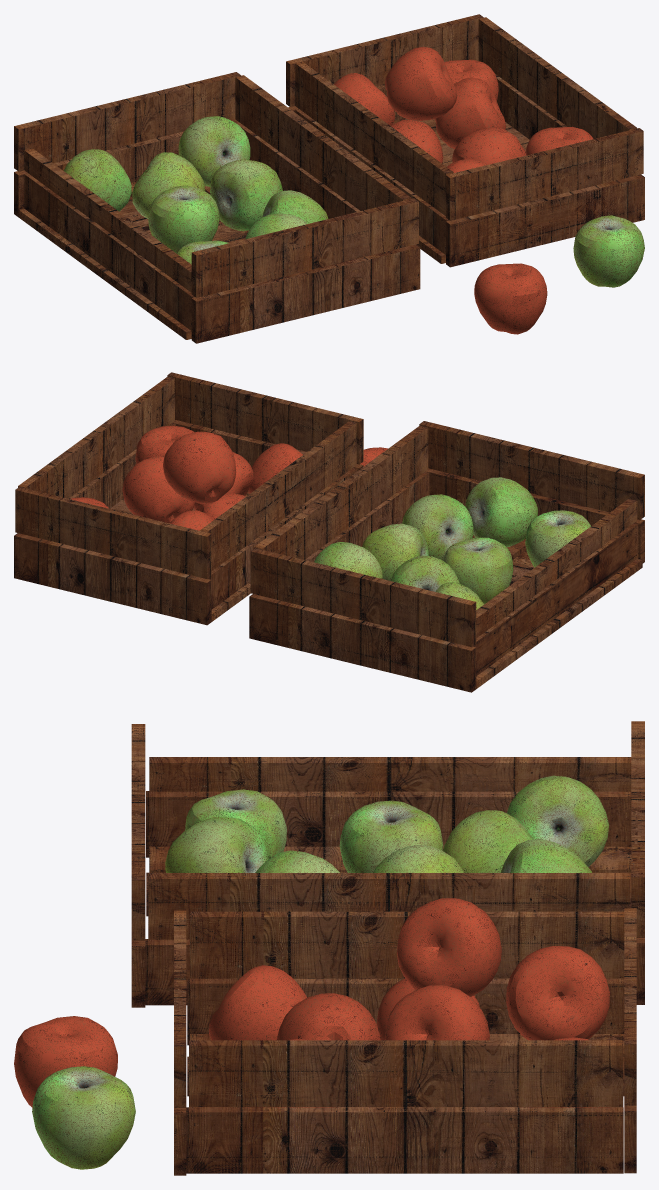
File: Apples.fbx
The picture shows the model from 3 angles, top to bottom: view 1: azimuth 30°, elevation 25°; view 2: azimuth 150°, elevation 25°; view 3: azimuth 270°, elevation 25°; orthographic projection. The views are drawn at different scales.
Visible parts, largest first — view 1: Group1, Group2, Group3, Group4; view 2: Group1, Group2; view 3: Group2, Group1, Group4, Group3.
Boxes of the visible parts, x1,y1,x2,y2 form: Group1: [14, 72, 420, 343]; Group2: [286, 14, 644, 267]; Group3: [474, 263, 547, 334]; Group4: [573, 215, 644, 287]; Group1: [249, 421, 644, 692]; Group2: [14, 372, 363, 625]; Group2: [174, 898, 636, 1175]; Group1: [131, 721, 644, 1007]; Group4: [32, 1066, 135, 1169]; Group3: [14, 1016, 117, 1107].
Bounding box in the file's own units: 159 × 55.01 × 129.
